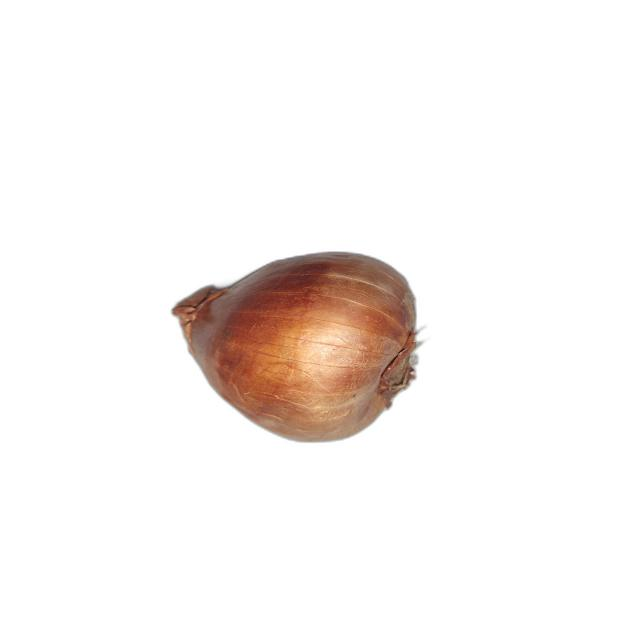onion: (172, 251, 422, 443)
